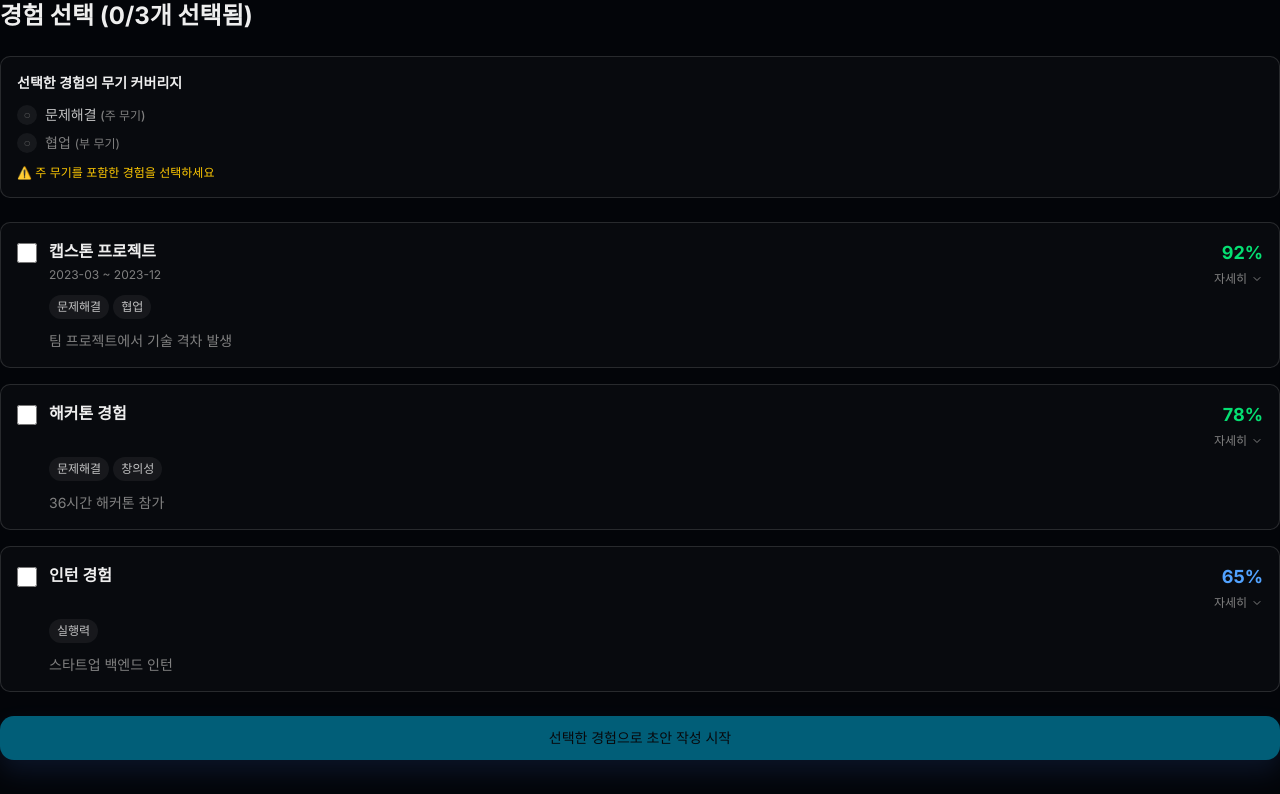
Test: ExperienceSelector › expands card to show full STAR content on click
Expected: the text "주간 세미나와 페어 프로그래밍 진행" is not shown
Click expand button or card
Click the button with test id "expand-button" below "92" at coordinates (1238, 279), box x1=1214 y1=271 x2=1263 y2=287
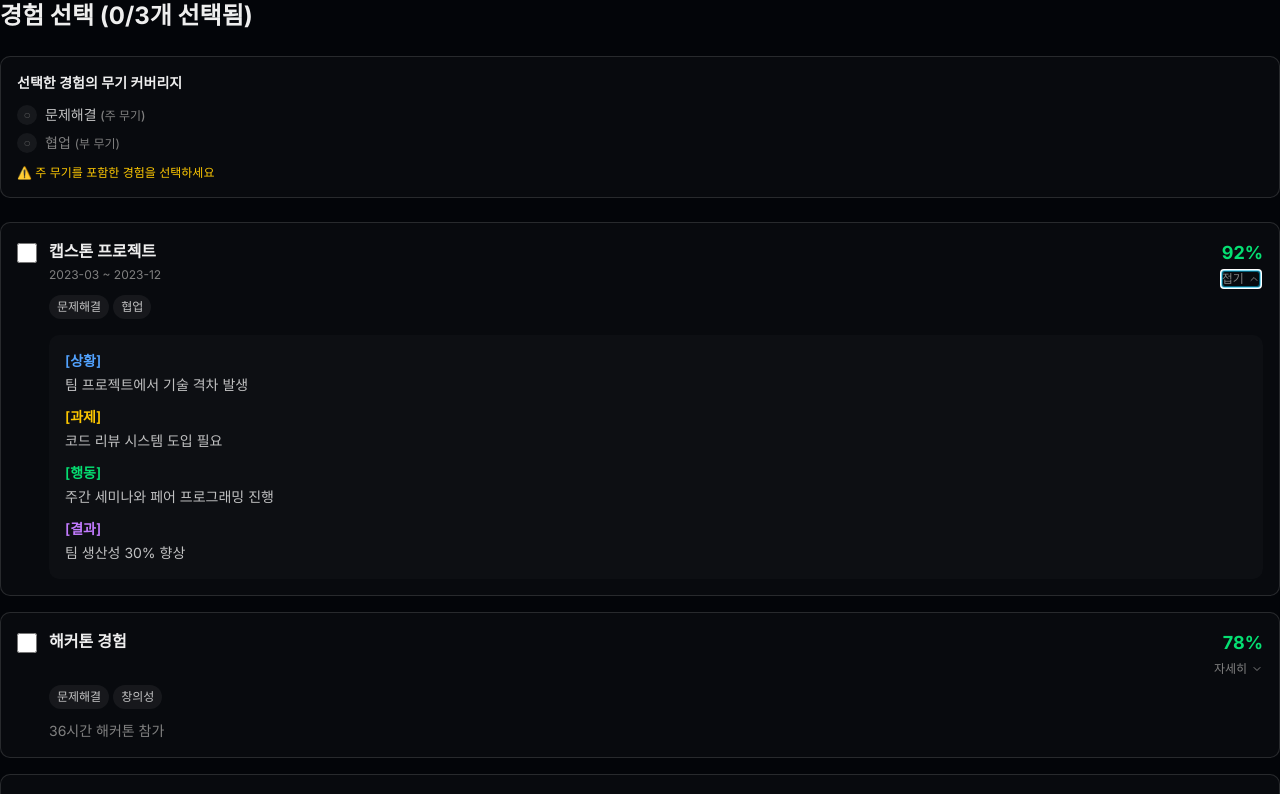
Now the text "주간 세미나와 페어 프로그래밍 진행" is shown, box x1=65 y1=488 x2=274 y2=505
Now the text "팀 생산성 30% 향상" is shown, box x1=65 y1=544 x2=185 y2=561
